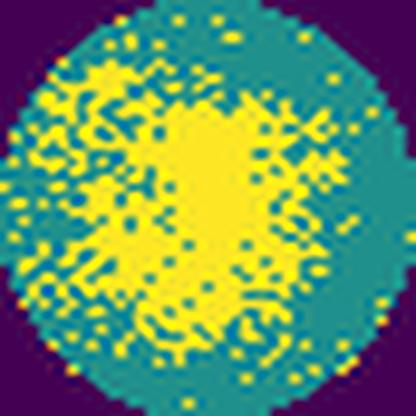Center: (64, 91, 321, 357)
